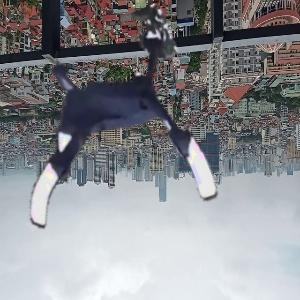drone: (2, 34, 208, 240)
